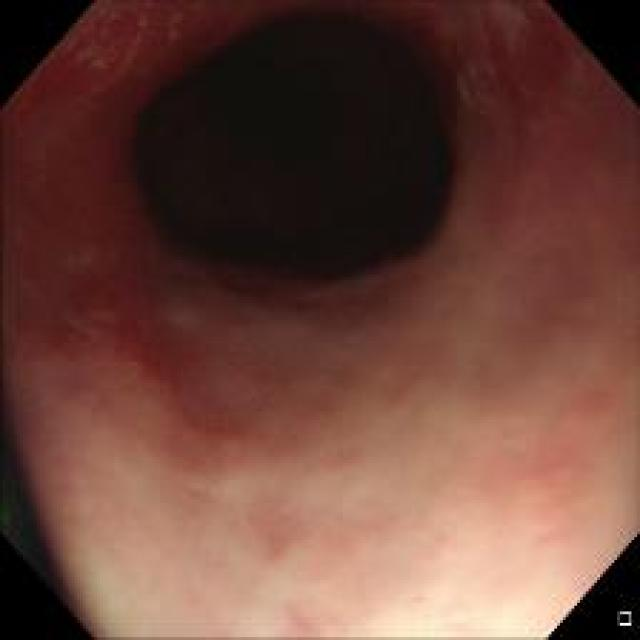contrast: (109, 14, 478, 308), (1, 384, 68, 609)
